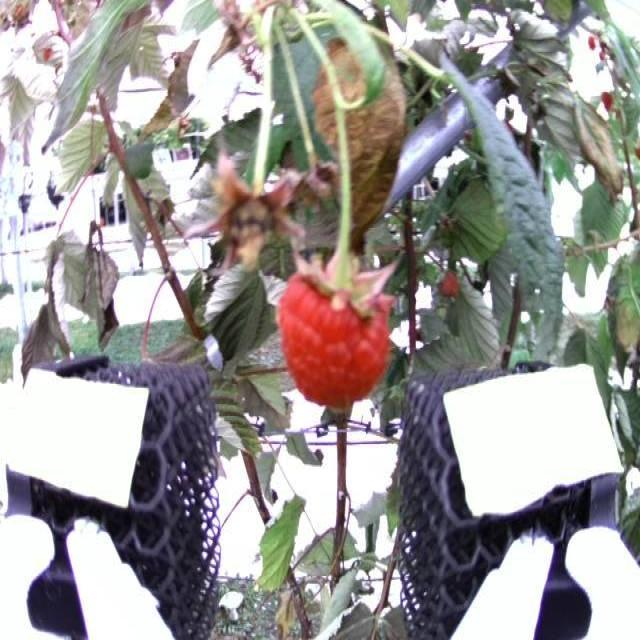Riped berries: (273, 242, 396, 407)
